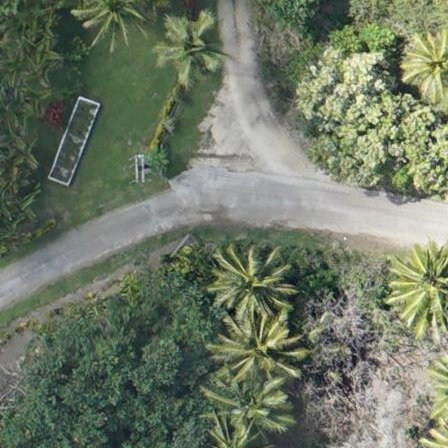palm_tree: (381, 234, 448, 340), (207, 244, 286, 327), (213, 317, 297, 382), (207, 376, 285, 439), (151, 14, 225, 79), (401, 31, 448, 101)
